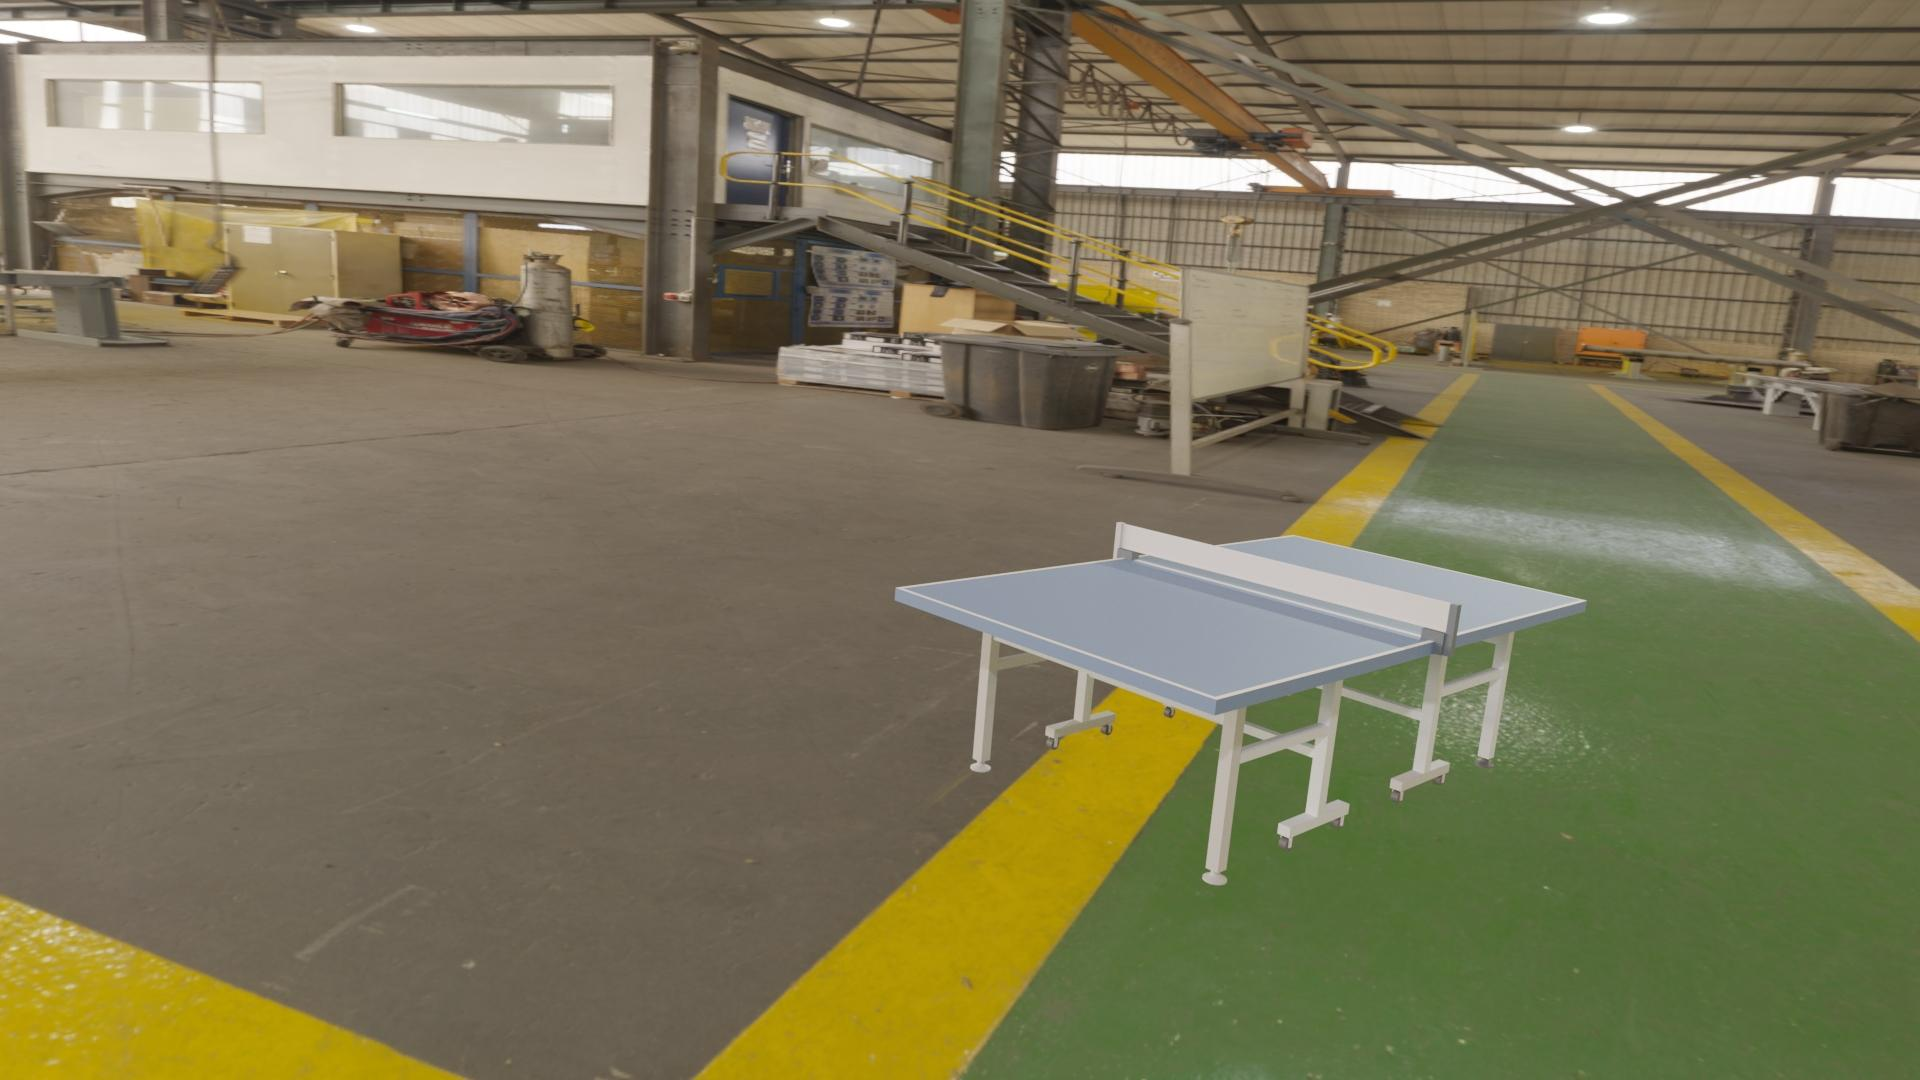table: (903, 537, 1581, 696)
